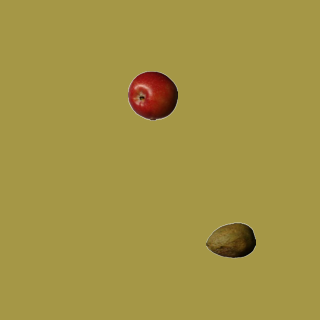Apple Braeburn: (127, 70, 177, 120)
Papaya: (205, 215, 255, 265)
